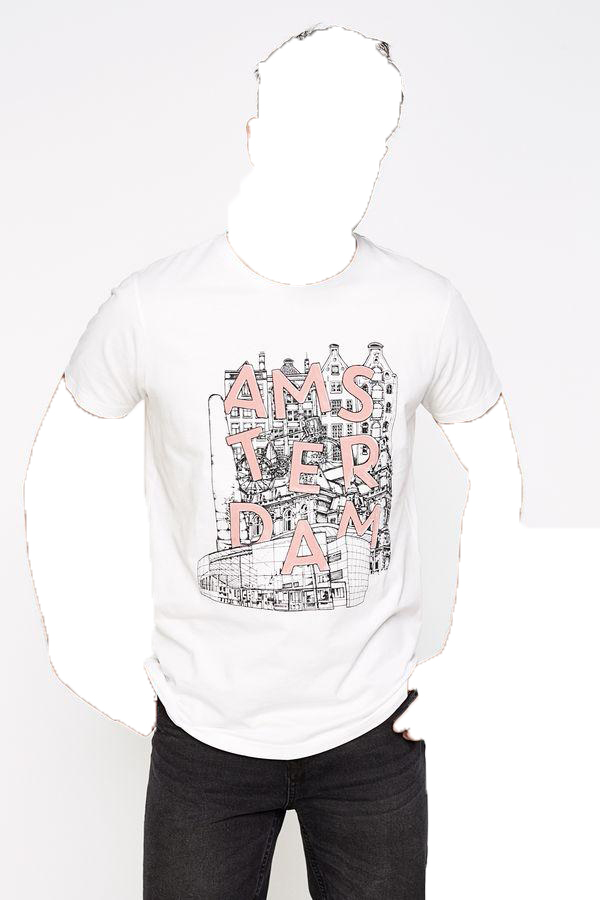teeshirt: (59, 234, 522, 759)
